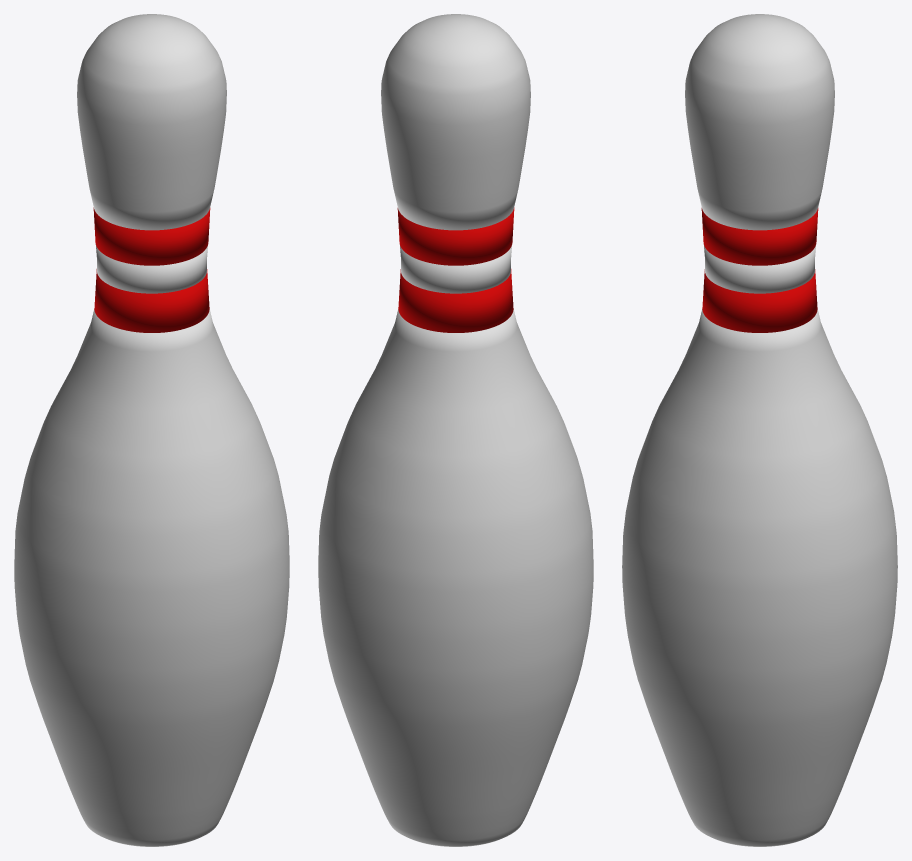
The model's file is ball.glb.
The picture shows the model from 3 angles, left to right: view 1: azimuth 30°, elevation 25°; view 2: azimuth 150°, elevation 25°; view 3: azimuth 270°, elevation 25°; orthographic projection.
Visible parts, largest first — view 1: pin, rings; view 2: pin, rings; view 3: pin, rings.
Boxes of the visible parts, x1,y1,x2,y2 form: pin: [14, 14, 289, 846]; rings: [93, 207, 210, 332]; pin: [318, 14, 593, 846]; rings: [397, 207, 514, 332]; pin: [622, 14, 897, 846]; rings: [701, 208, 818, 332].
Bounding box in the file's own units: 0.6507 × 2.08 × 0.6507.
